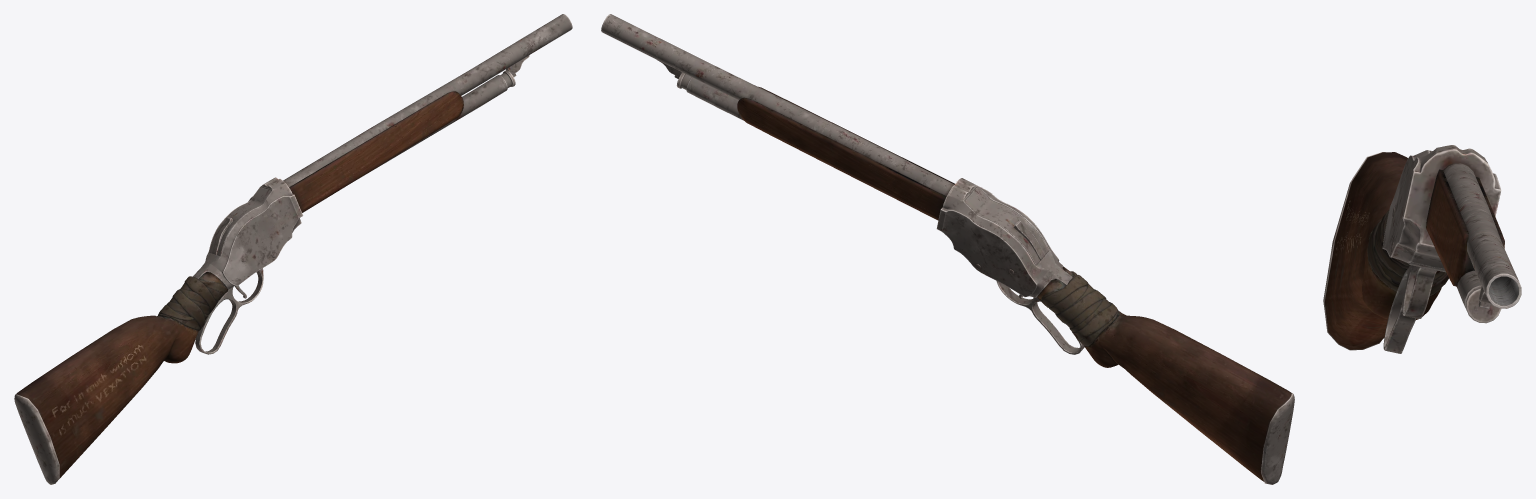
File: sawedoff.glb
The picture shows the model from 3 angles, left to right: view 1: azimuth 30°, elevation 25°; view 2: azimuth 150°, elevation 25°; view 3: azimuth 270°, elevation 25°; orthographic projection. The views are drawn at different scales.
Visible parts, largest first — view 1: winchester_remake_aiStandardSurface1_0; view 2: winchester_remake_aiStandardSurface1_0; view 3: winchester_remake_aiStandardSurface1_0.
Boxes of the visible parts, x1,y1,x2,y2 form: winchester_remake_aiStandardSurface1_0: (14,14,572,484); winchester_remake_aiStandardSurface1_0: (601,14,1294,484); winchester_remake_aiStandardSurface1_0: (1323,145,1521,353).
Bounding box in the file's own units: 0.2226 × 0.1126 × 0.0329.
1 material, 1 textured.
